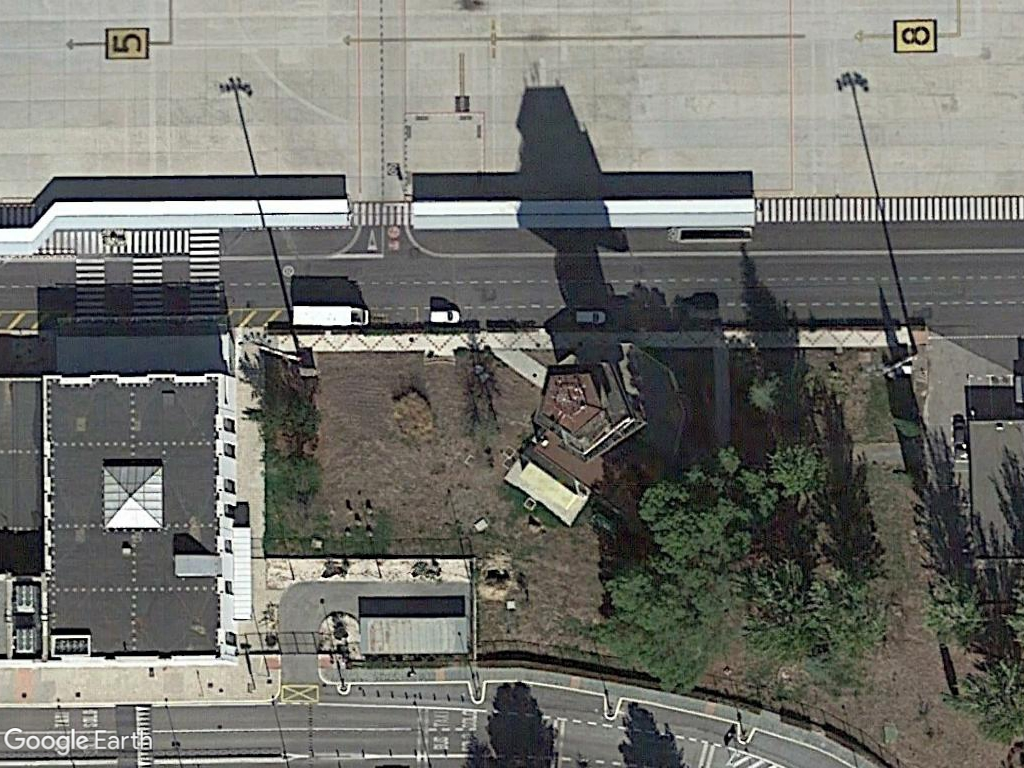car: (568, 306, 615, 328), (426, 305, 465, 327)
truck: (288, 300, 377, 333)
